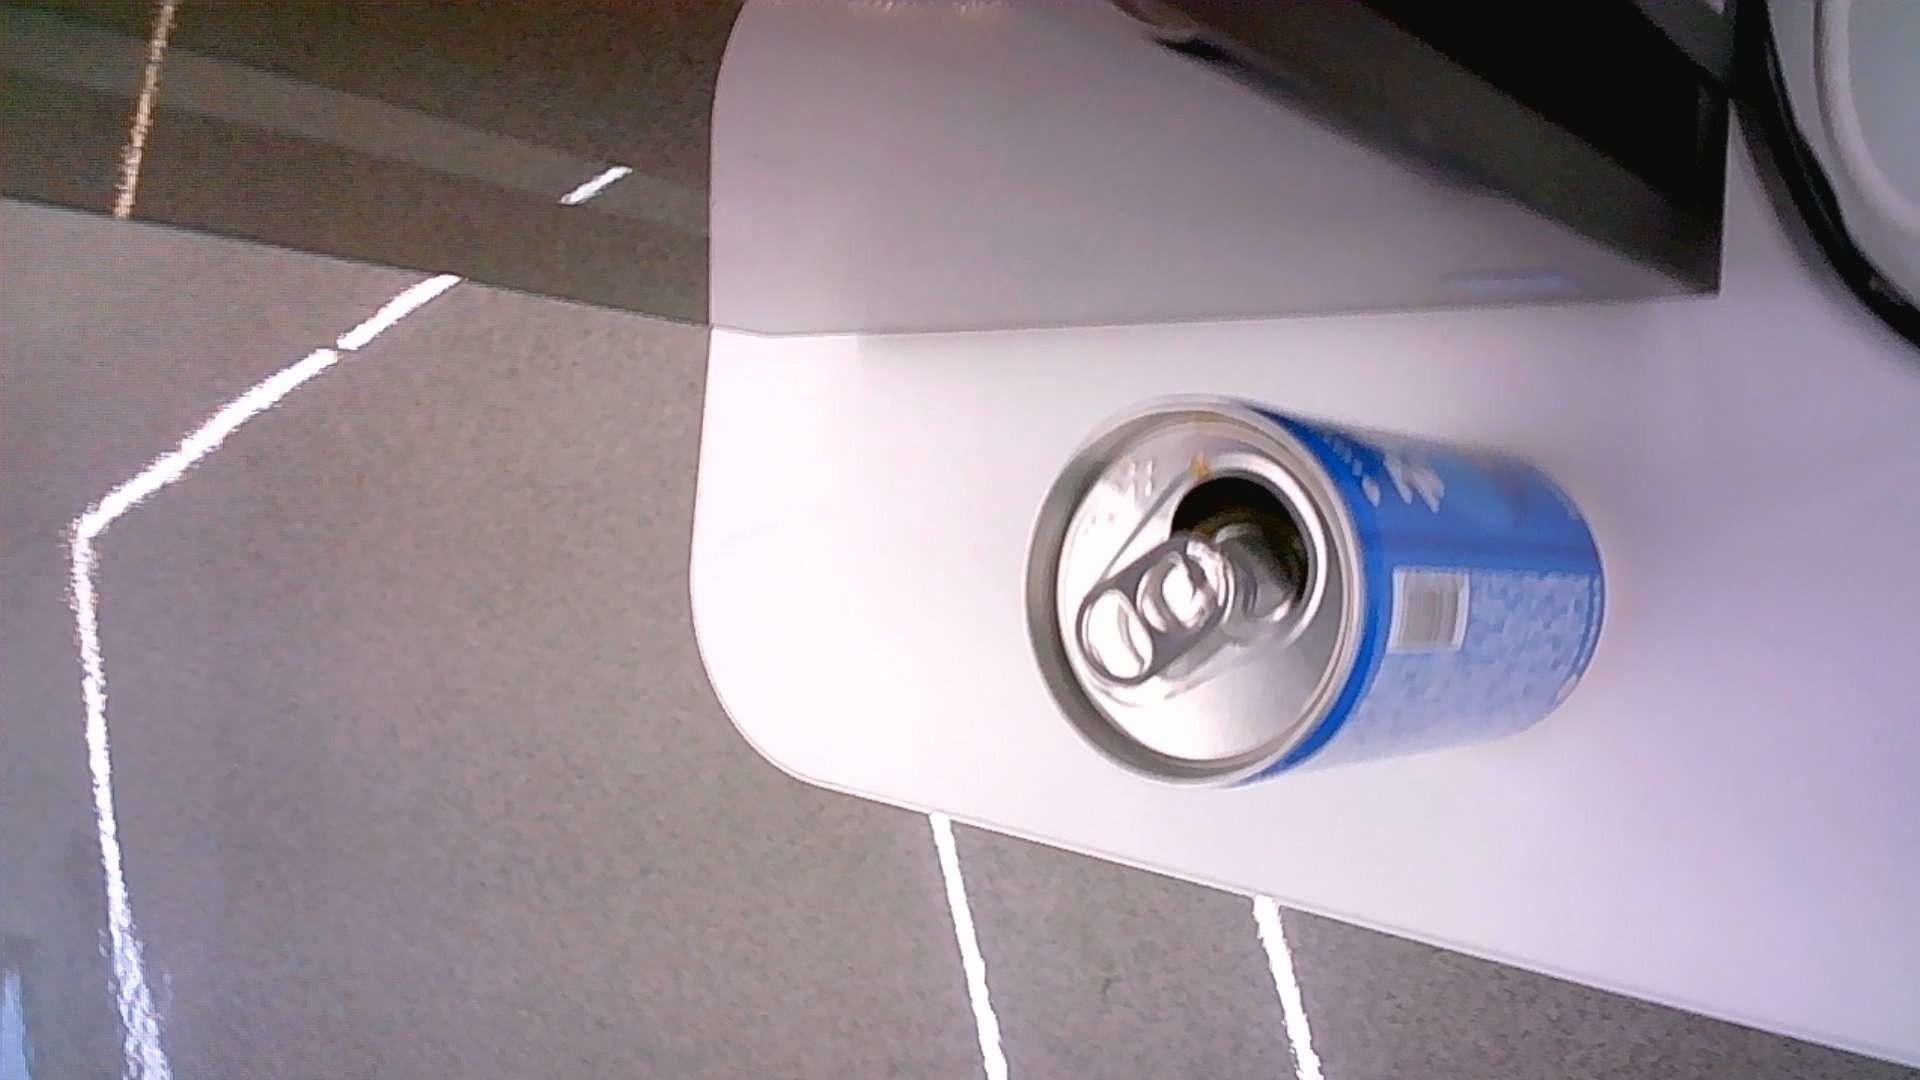letsbe: (1021, 394, 1610, 789)
